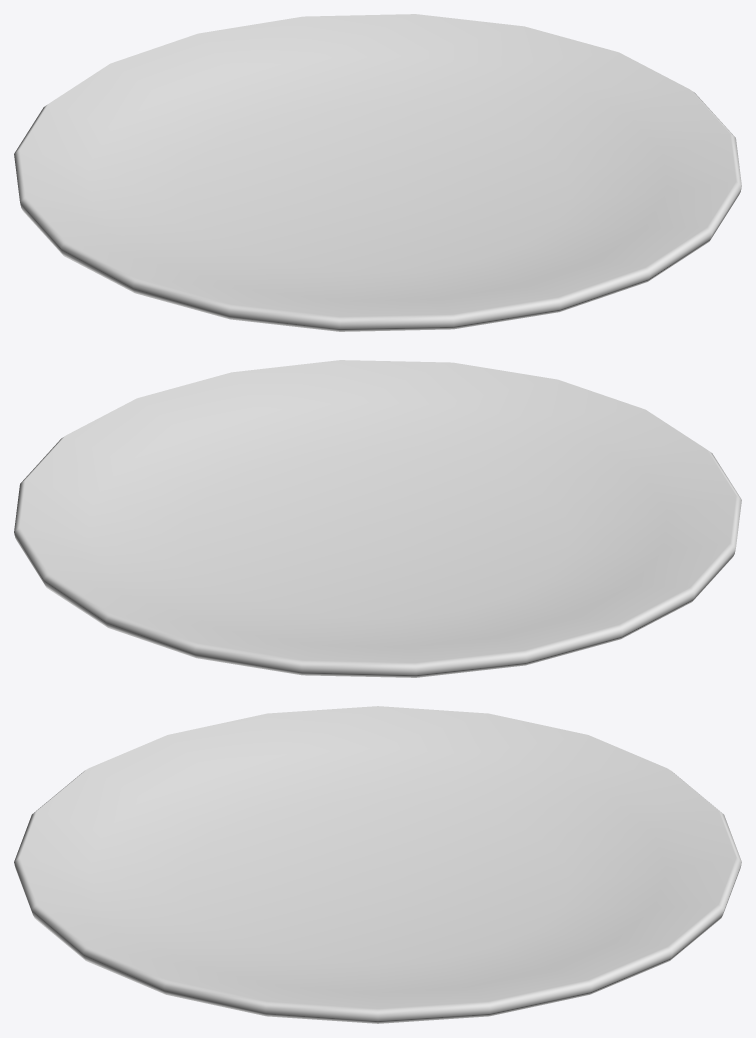
File: Plate Full Model.fbx
3 views of the same model, one above another, from view 1: azimuth 30°, elevation 25°; view 2: azimuth 150°, elevation 25°; view 3: azimuth 270°, elevation 25° (orthographic).
Parts seen in each view (by area): view 1: pCylinder1; view 2: pCylinder1; view 3: pCylinder1.
Part boxes in pixels (<box>): pCylinder1: <box>14,14,741,331</box>; pCylinder1: <box>14,360,741,677</box>; pCylinder1: <box>14,706,741,1023</box>.
Bounding box in the file's own units: 2.98 × 0.2057 × 2.98.
